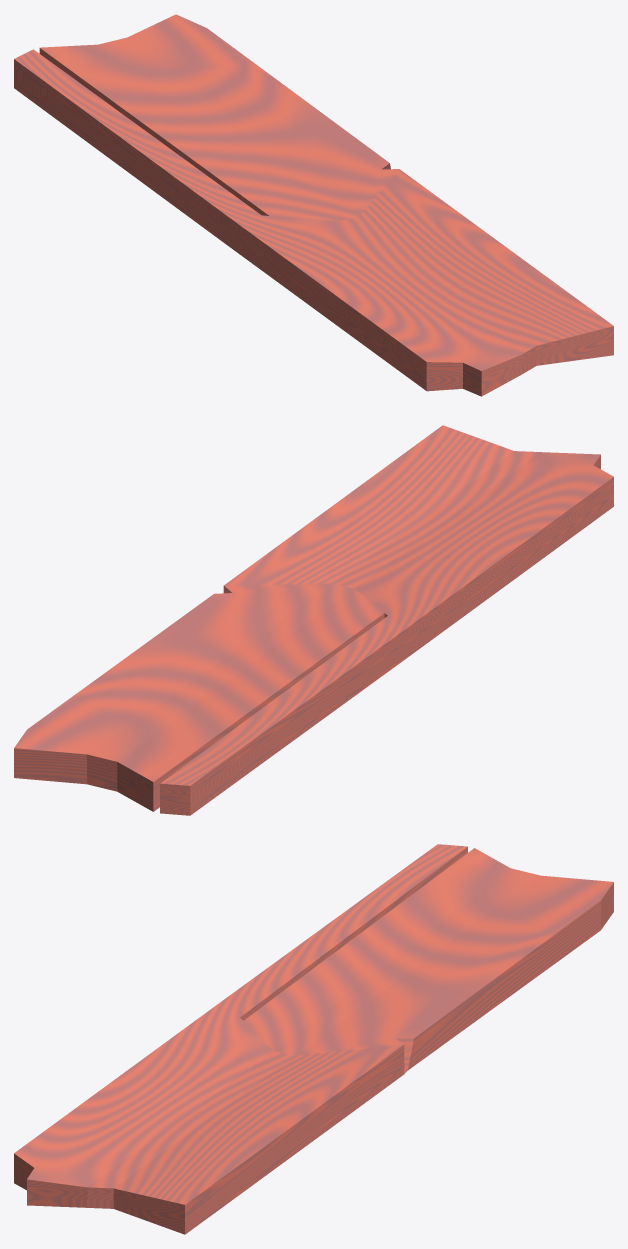
Rendered from Plank2.glb.
3 views of the same model, one above another, from view 1: azimuth 30°, elevation 25°; view 2: azimuth 150°, elevation 25°; view 3: azimuth 330°, elevation 25° (orthographic). The views are drawn at different scales.
Parts seen in each view (by area): view 1: Cube.002; view 2: Cube.002; view 3: Cube.002.
Boxes of the visible parts, box(x1,y1,x2,y2) form: Cube.002: box(14, 14, 613, 396); Cube.002: box(14, 425, 613, 815); Cube.002: box(14, 844, 613, 1234).
Size of the model in its own units: 0.4776 by 0.0753 by 2.05.
Materials: 1 (1 with a texture image).
